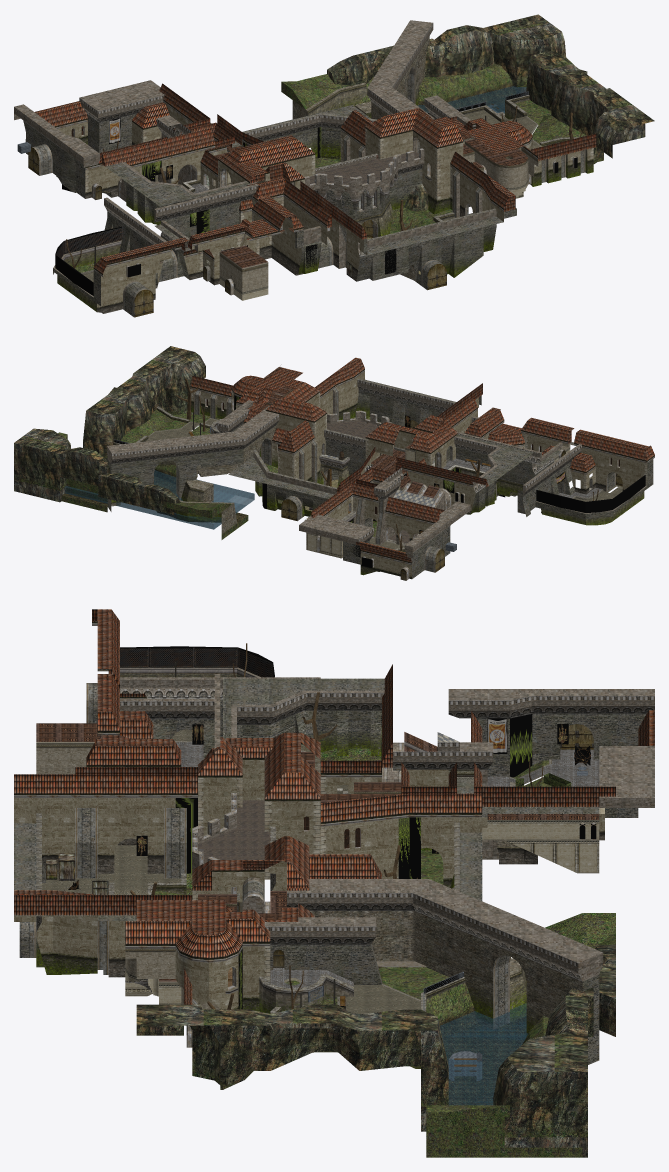
File: castle.glb
3 renders of one model, top to bottom at view 1: azimuth 30°, elevation 25°; view 2: azimuth 150°, elevation 25°; view 3: azimuth 270°, elevation 25°, orthographic. The views are drawn at different scales.
Parts seen in each view (by area): view 1: Material2 (×34); view 2: Material2 (×33); view 3: Material2 (×35).
Boxes of the visible parts, x1=… form: Material2 (×34): x1=14, y1=14, x2=654, y2=317; Material2 (×33): x1=14, y1=346, x2=654, y2=580; Material2 (×35): x1=14, y1=609, x2=654, y2=1157.
Size of what is drawn, in the model's own units: 5827 by 882 by 3622.
99 materials, 99 textured.
